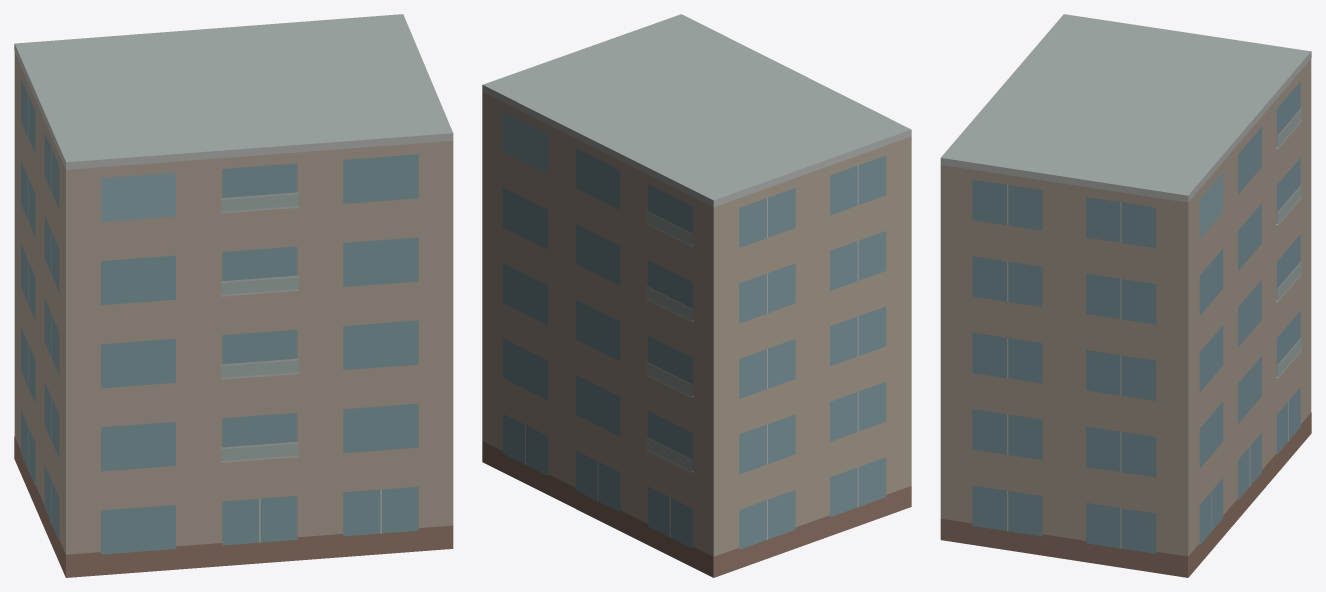
File: survey-upis-32894452.glb
3 views of the same model, side by side, from view 1: azimuth 30°, elevation 25°; view 2: azimuth 150°, elevation 25°; view 3: azimuth 270°, elevation 25° (orthographic). The views are drawn at different scales.
Visible parts, largest first — view 1: survey-upis-32894452.tmp; view 2: survey-upis-32894452.tmp; view 3: survey-upis-32894452.tmp.
Part boxes in pixels (x1,y1,x2,y2): survey-upis-32894452.tmp: (14,14,453,577); survey-upis-32894452.tmp: (482,14,911,577); survey-upis-32894452.tmp: (940,14,1311,577).
Bounding box in the file's own units: 13.67 × 13.4 × 11.79.
